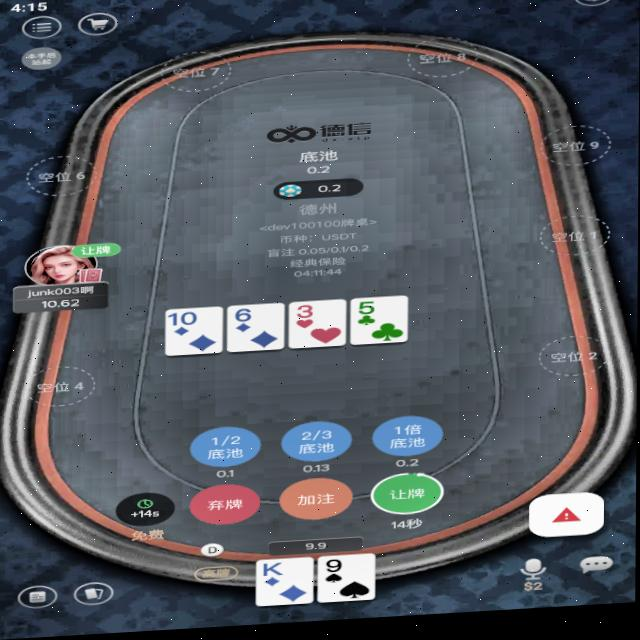10f: (168, 313, 199, 330)
3h: (290, 305, 322, 324)
5m: (354, 302, 385, 321)
6f: (232, 309, 257, 327)
9s: (322, 561, 348, 579)
Kf: (259, 564, 288, 581)
